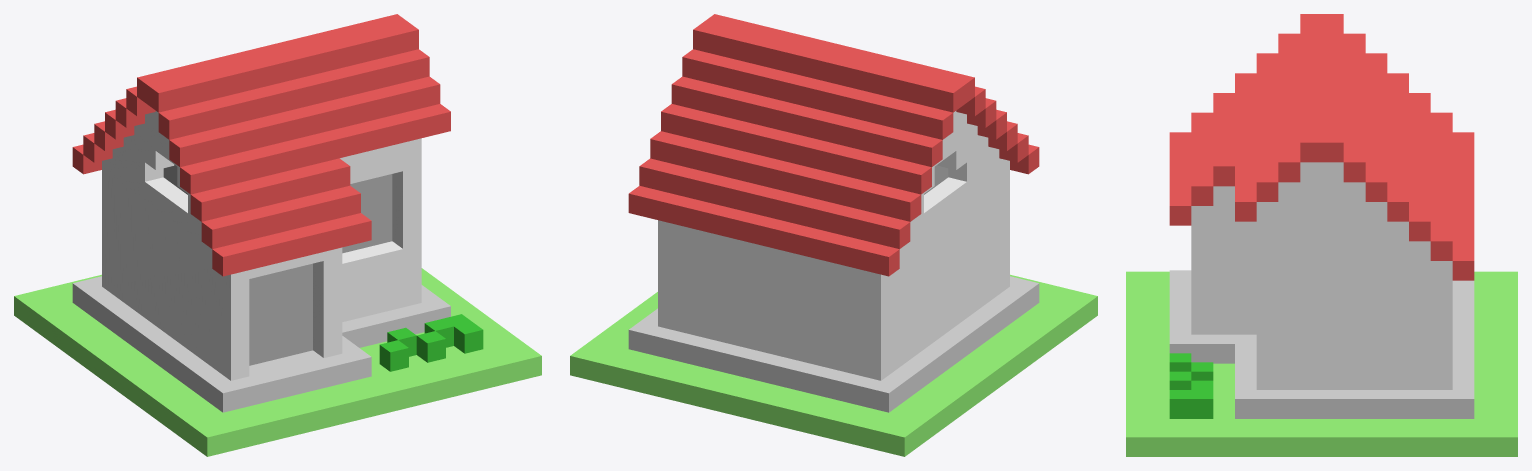
The model's file is Home.glb.
3 views of the same model, side by side, from view 1: azimuth 30°, elevation 25°; view 2: azimuth 150°, elevation 25°; view 3: azimuth 270°, elevation 25° (orthographic).
Visible parts, largest first — view 1: house; view 2: house; view 3: house.
Part boxes in pixels (<box>): house: <box>14,14,541,456</box>; house: <box>570,14,1097,456</box>; house: <box>1126,14,1517,456</box>.
Bounding box in the file's own units: 4.5 × 3.75 × 4.5.
